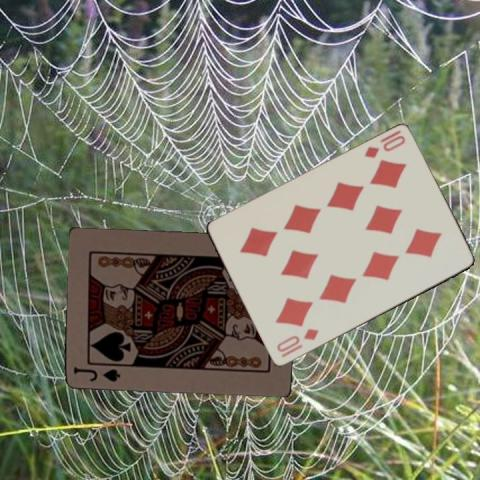10d: (273, 326, 320, 355), (361, 133, 407, 160)
Js: (70, 363, 123, 383)
